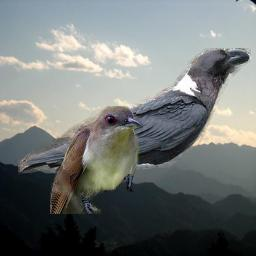Crow: (18, 48, 251, 174)
Cuckoo: (50, 106, 143, 214)
